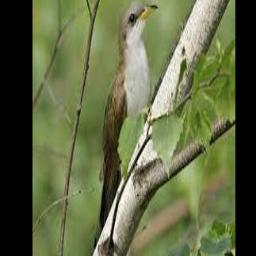Cuckoo: (94, 0, 158, 250)
